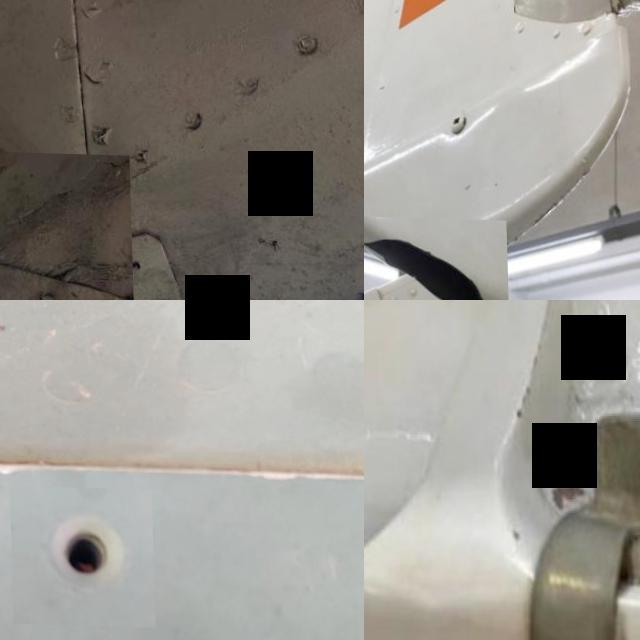Crack: (364, 214, 506, 300)
Dent: (0, 147, 134, 300)
Missing_Fastener: (8, 484, 154, 626)
